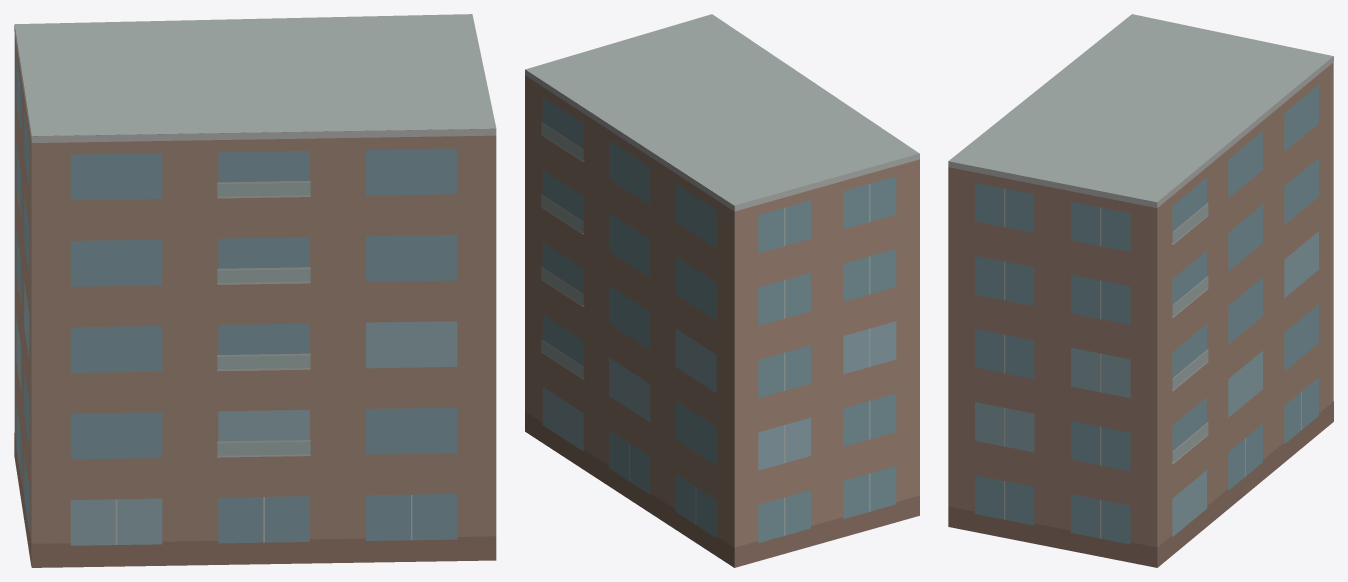
The model's file is survey-upis-33014038.glb.
The picture shows the model from 3 angles, left to right: view 1: azimuth 30°, elevation 25°; view 2: azimuth 150°, elevation 25°; view 3: azimuth 270°, elevation 25°; orthographic projection. The views are drawn at different scales.
Visible parts, largest first — view 1: survey-upis-33014038.tmp; view 2: survey-upis-33014038.tmp; view 3: survey-upis-33014038.tmp.
Part boxes in pixels (x1,y1,x2,y2): survey-upis-33014038.tmp: (14,14,496,567); survey-upis-33014038.tmp: (525,14,919,567); survey-upis-33014038.tmp: (948,14,1333,567).
Size of the model in its own units: 16.8 by 15.2 by 14.54.
